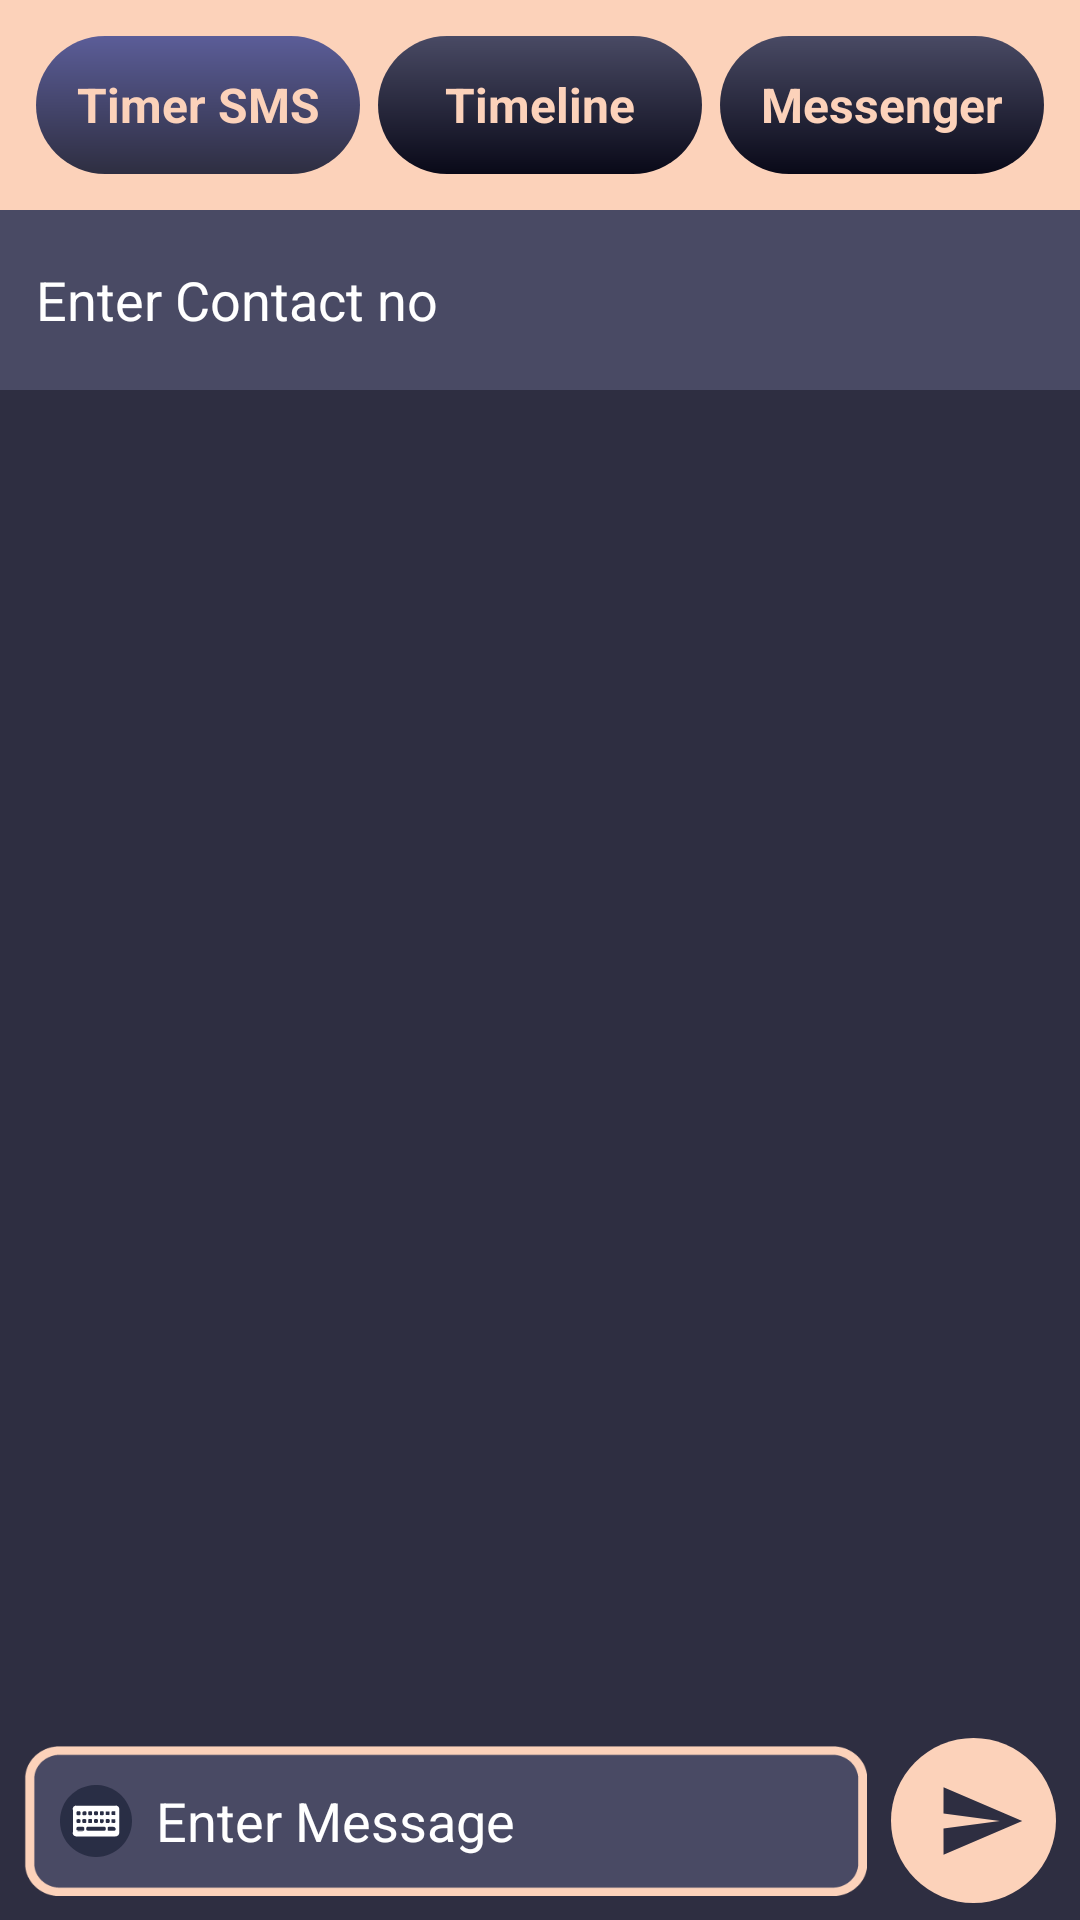

Where to tap for icons on this 1080px×1920px app screen, as [x,y]:
send: [973,1820]
